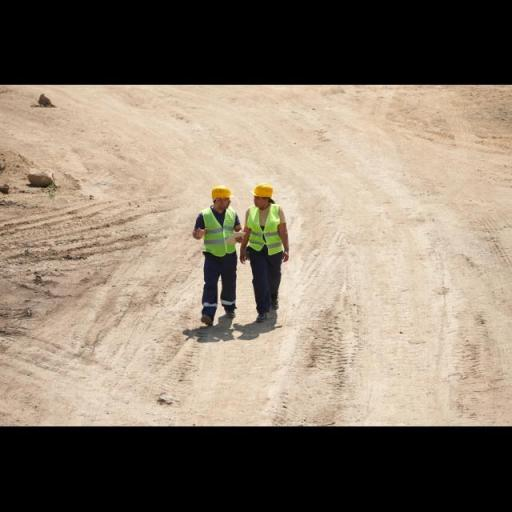Person: (196, 173, 246, 343), (242, 178, 292, 333)
boots: (216, 298, 244, 324), (191, 305, 219, 331), (248, 300, 268, 326), (264, 304, 284, 326)
helmet: (209, 184, 235, 200), (253, 184, 279, 200)
vest: (191, 207, 240, 257), (242, 204, 290, 255)
